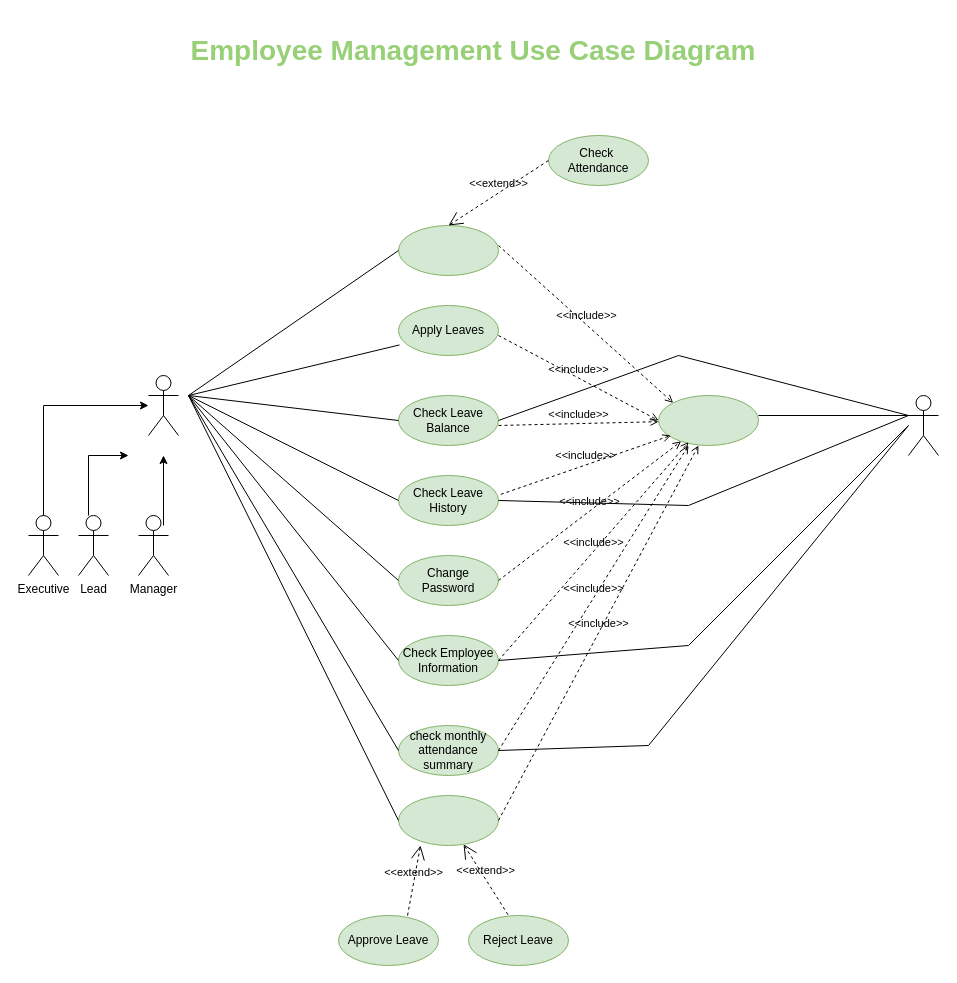
Image size: 957x983. Some labels were removed from this diagram. Here are the shapes that lost their labels. From the top down, the centre of each, then its label:
At (x=448, y=250): "Mark Attendance".
At (x=163, y=405): "Employee".
At (x=708, y=420): "Login".
At (x=923, y=425): "Admin".
At (x=448, y=820): "check leave requests".
